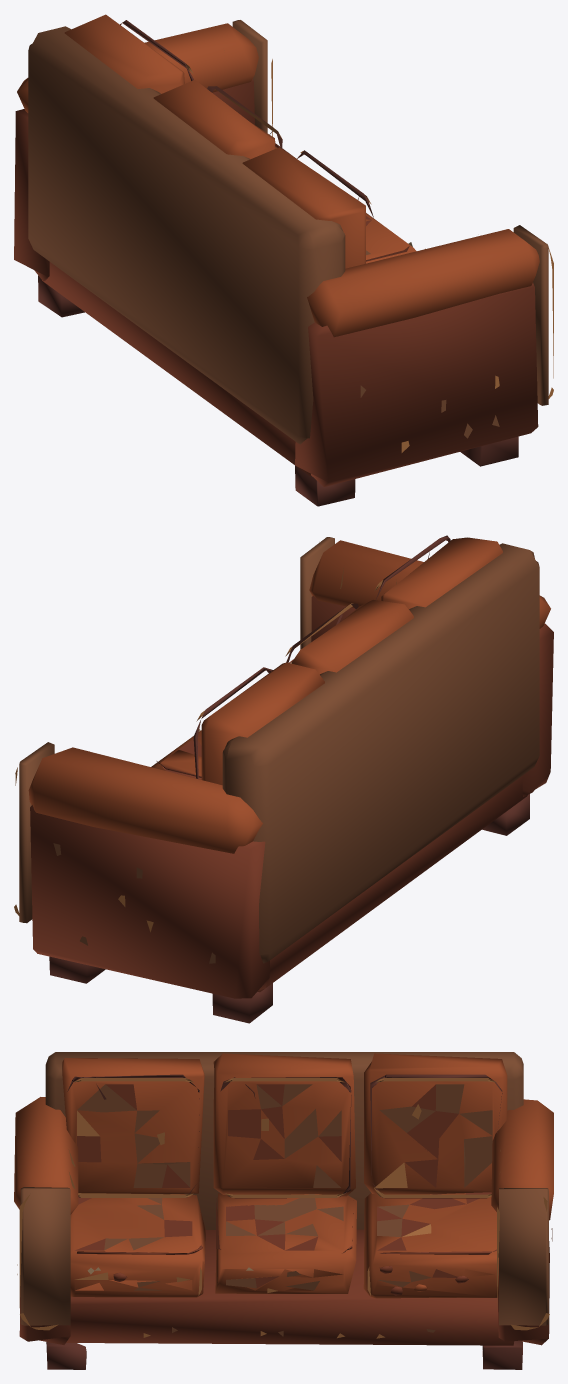
The picture shows the model from 3 angles, top to bottom: view 1: azimuth 30°, elevation 25°; view 2: azimuth 150°, elevation 25°; view 3: azimuth 270°, elevation 25°; orthographic projection. The views are drawn at different scales.
Bounding box in the file's own units: 1.06 × 1.24 × 2.5.
